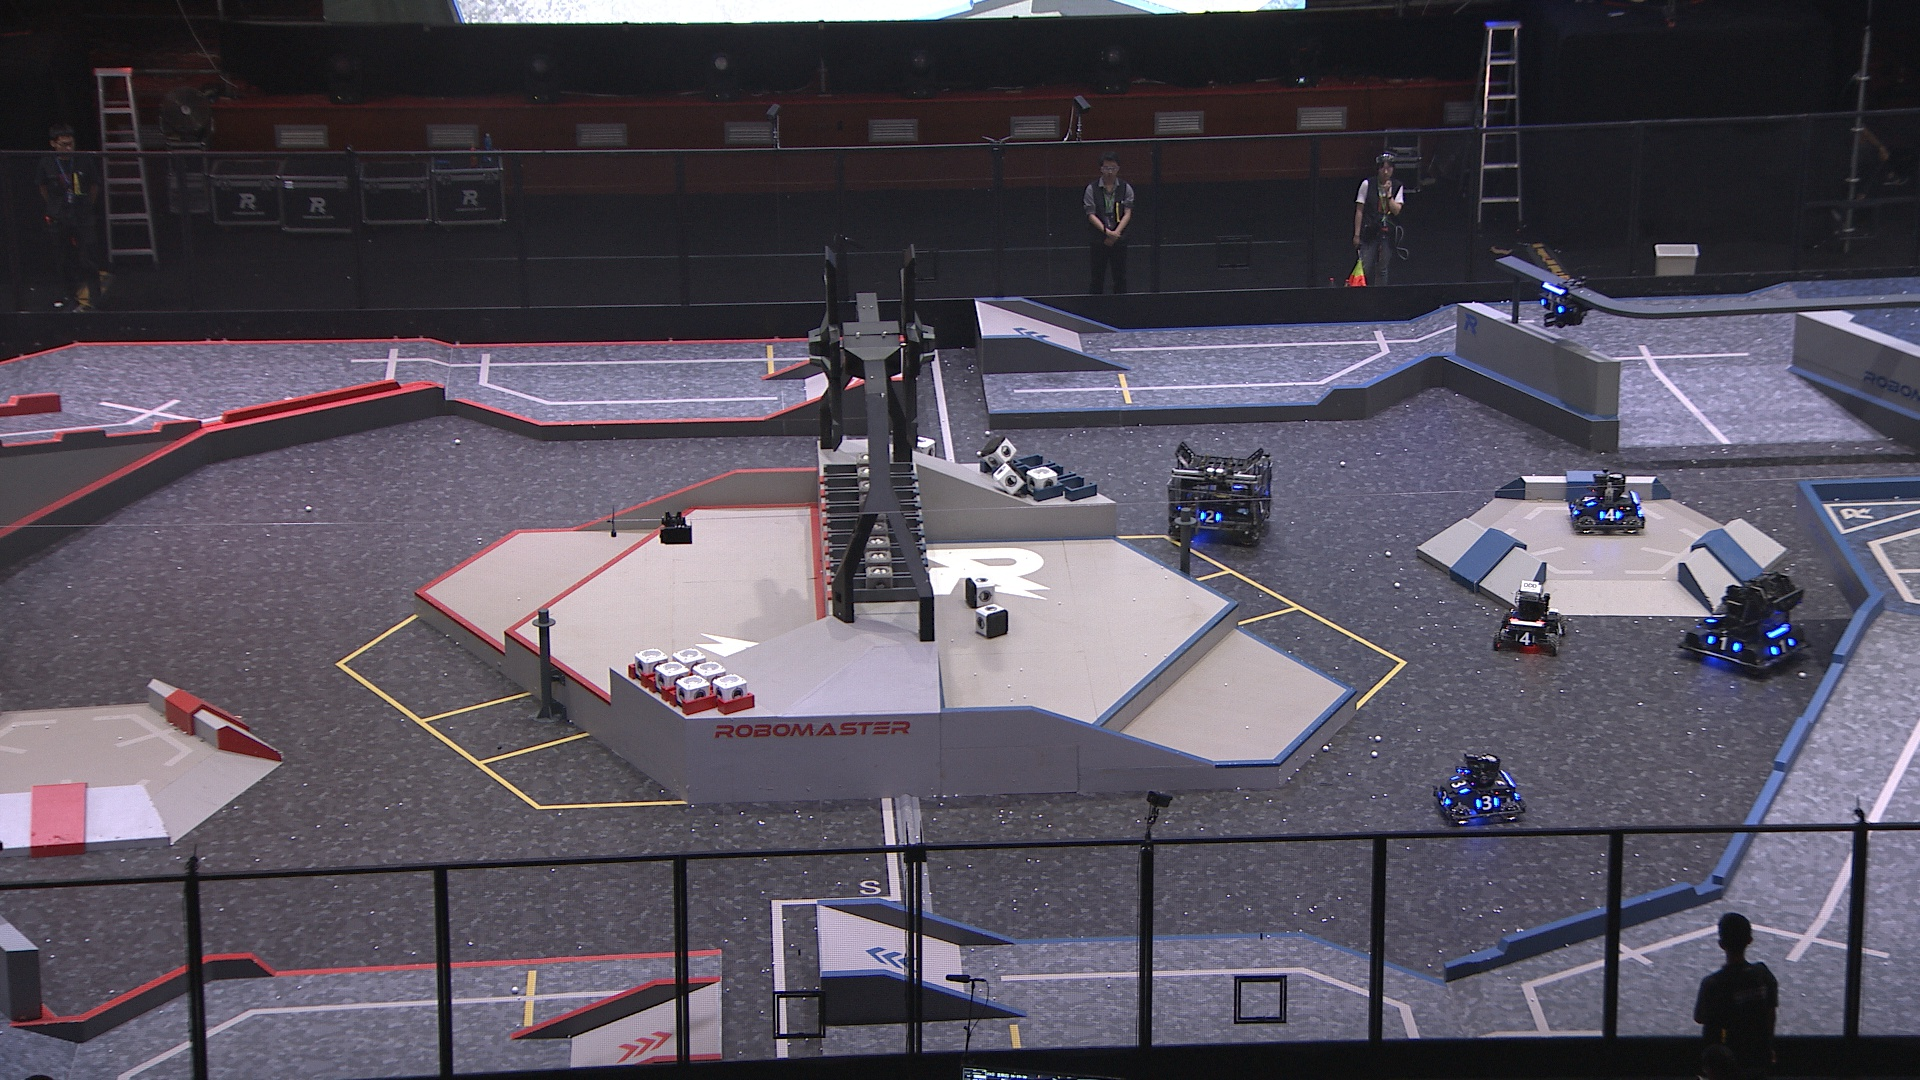armor: (1704, 632, 1742, 657), (1451, 774, 1472, 796), (1476, 794, 1501, 812), (1771, 637, 1793, 657), (1542, 297, 1565, 315), (1197, 508, 1221, 524), (1598, 508, 1623, 522), (1705, 609, 1726, 626), (1436, 789, 1451, 811), (1513, 632, 1534, 646), (1581, 493, 1598, 508), (1552, 618, 1564, 637), (1494, 775, 1509, 790), (1569, 501, 1580, 518)
car: (1676, 572, 1812, 675), (1166, 446, 1273, 550), (1433, 752, 1528, 825), (1490, 582, 1569, 651), (1565, 469, 1647, 535)
watcher: (1532, 276, 1594, 324)
